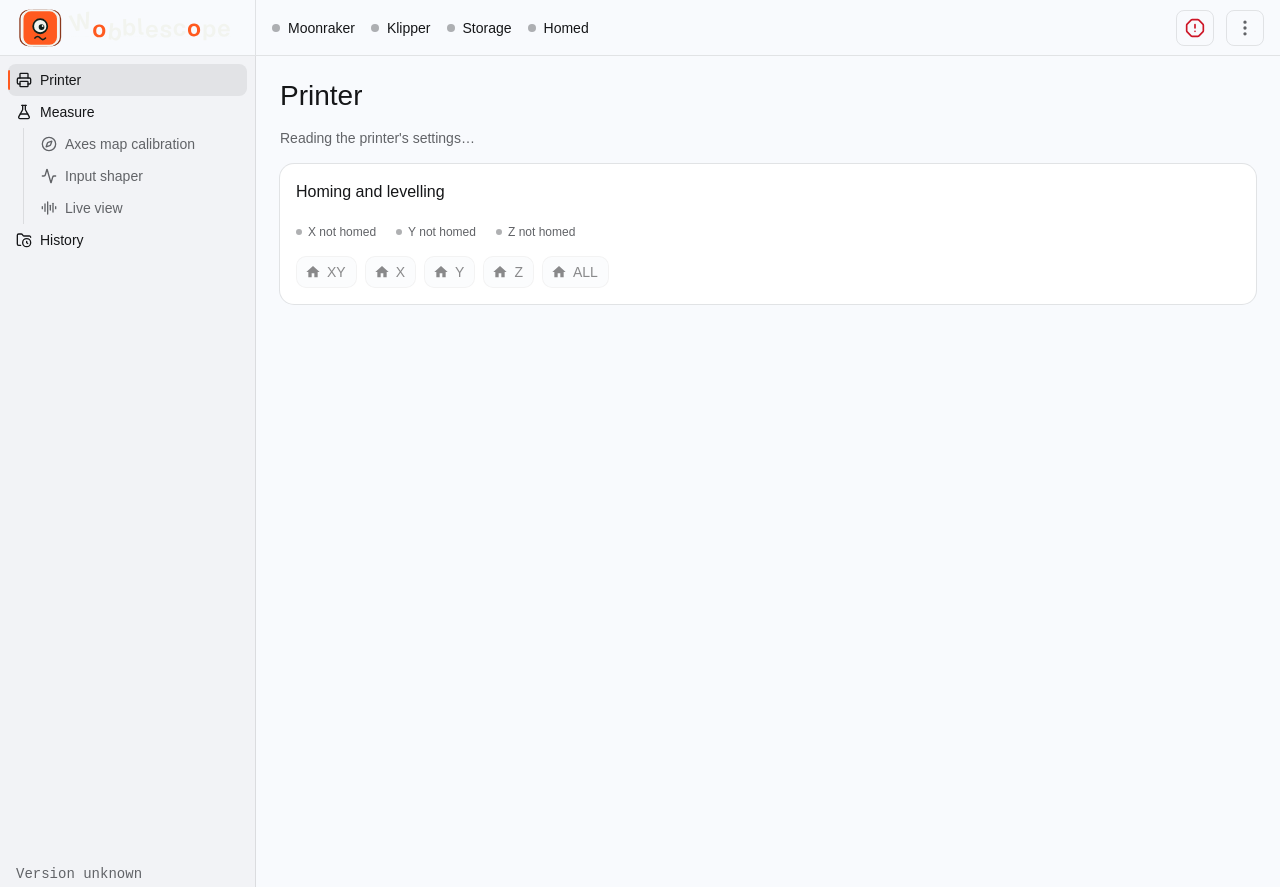
it: the printer controls in the header › needs two presses to stop the printer
Click the button named "Stop printer": coordinates (1195, 28) [1176,10,1214,46]
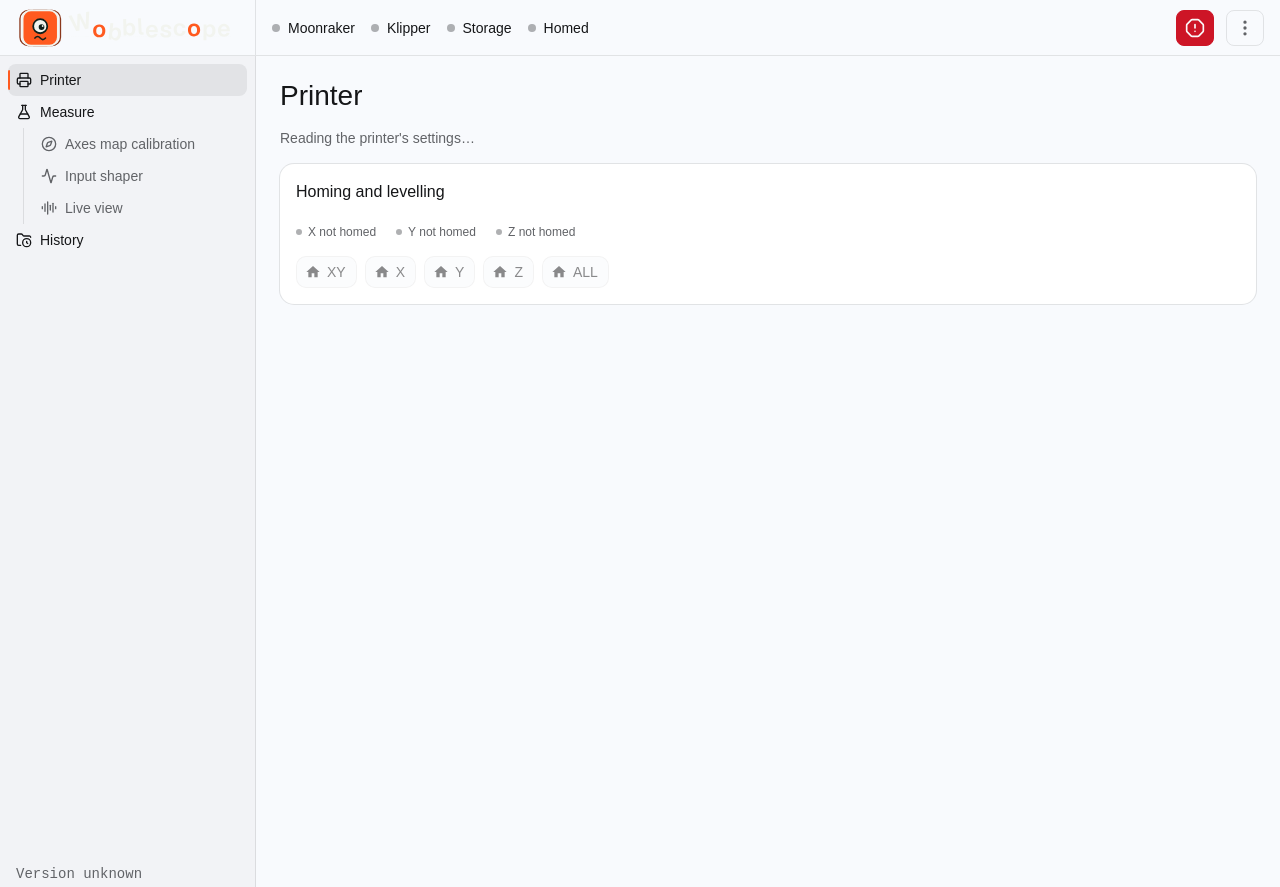
Click the button named "Press again to stop printer": coordinates (1195, 28) [1176,10,1214,46]
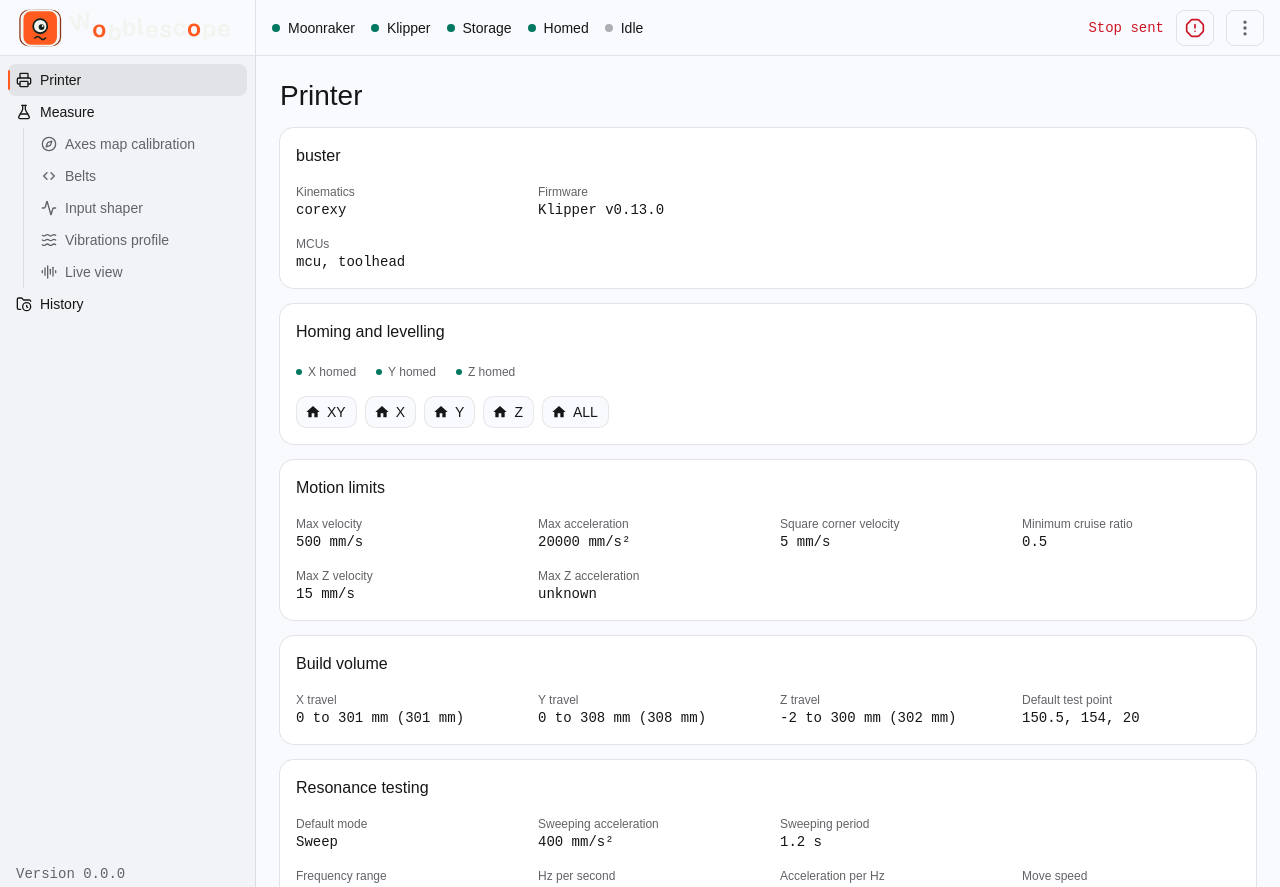
Result: the text "Stop sent" is shown at [1088,18,1164,38]
